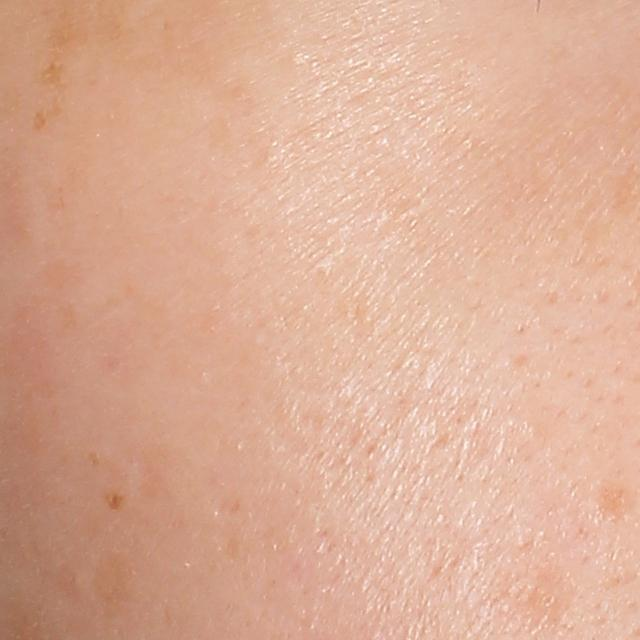melasma: (594, 484, 639, 519)
